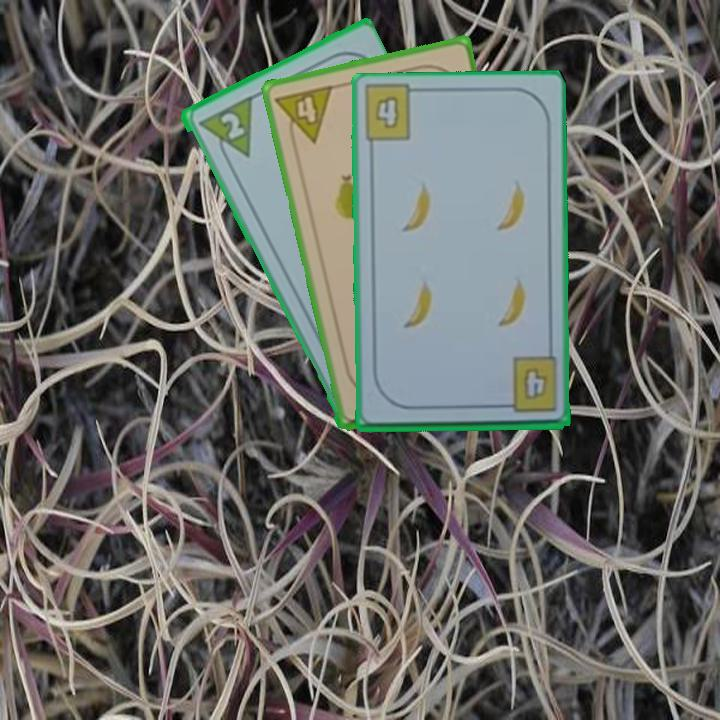2p: (193, 93, 255, 169)
4b: (495, 355, 559, 416), (371, 92, 402, 131)
4p: (272, 81, 336, 150)
